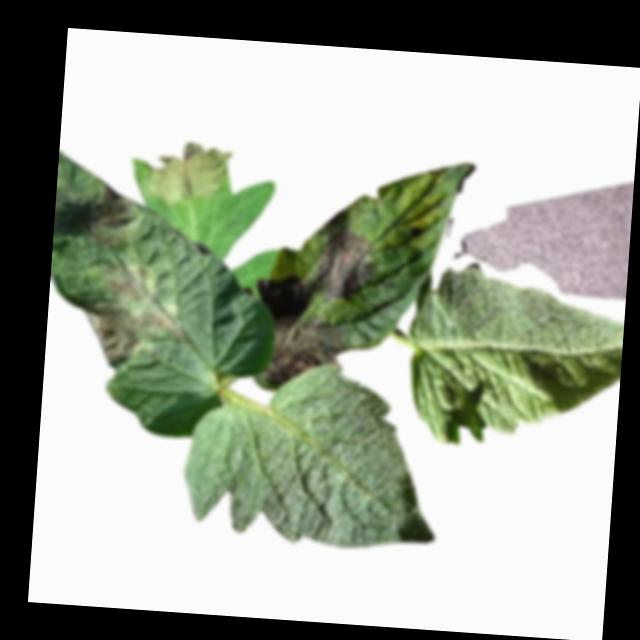Late_blight: (254, 223, 373, 323), (78, 300, 181, 371), (143, 137, 240, 209), (262, 316, 346, 391), (86, 182, 148, 250), (98, 261, 159, 305)
healthy: (179, 353, 447, 554), (401, 260, 625, 461)
